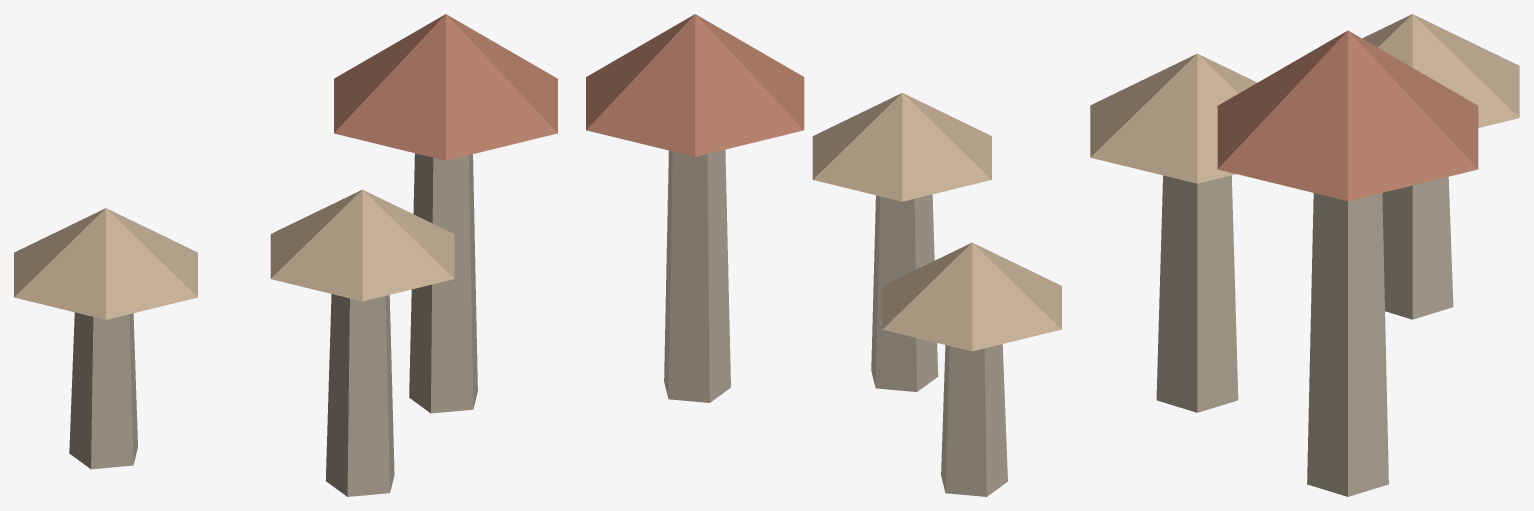
The picture shows the model from 3 angles, left to right: view 1: azimuth 30°, elevation 25°; view 2: azimuth 150°, elevation 25°; view 3: azimuth 270°, elevation 25°; orthographic projection. The views are drawn at different scales.
Parts seen in each view (by area): view 1: Body; view 2: Body; view 3: Body.
Part boxes in pixels (box(x1,y1,x2,y2)): Body: box(14, 14, 557, 496); Body: box(586, 14, 1061, 496); Body: box(1090, 14, 1519, 496).
Bounding box in the file's own units: 1.29 × 0.92 × 0.7984.
